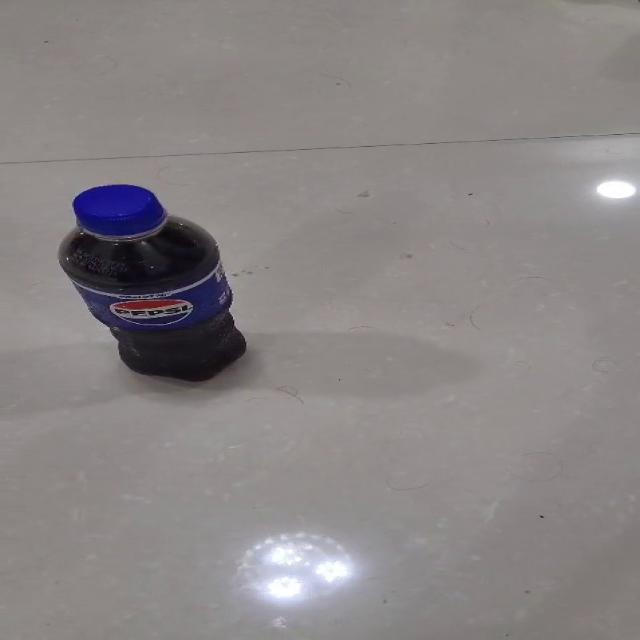plastic: (55, 183, 248, 382)
